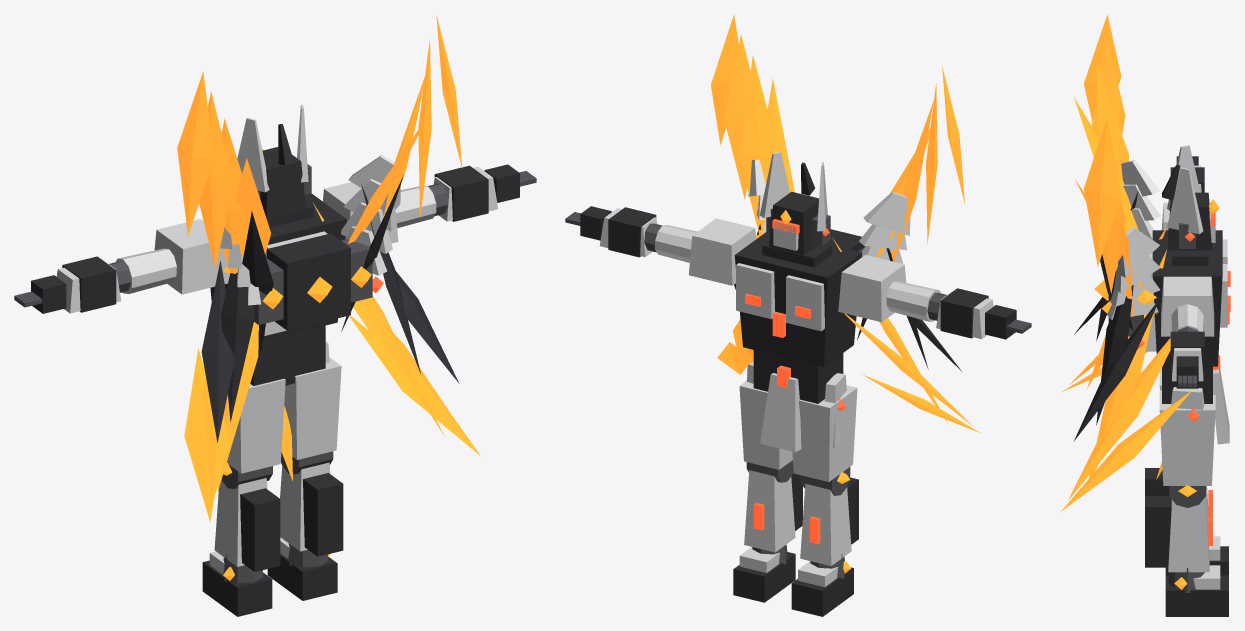
Rendered from ignis_30k.glb.
3 renders of one model, left to right at view 1: azimuth 30°, elevation 25°; view 2: azimuth 150°, elevation 25°; view 3: azimuth 270°, elevation 25°, orthographic. The views are drawn at different scales.
Visible parts, largest first — view 1: IGNIS_pack_core, IGNIS_thigh_R, IGNIS_thigh_L, IGNIS_shoulder_L, IGNIS_wing_big_L_3, IGNIS_pelvis, IGNIS_calf_R, IGNIS_calf_L, IGNIS_wing_dark_L_2, IGNIS_wing_big_L_2, IGNIS_wing_dark_L_1, IGNIS_foot_L (+35 smaller); view 2: IGNIS_torso_core, IGNIS_thigh_L, IGNIS_shin_L, IGNIS_shin_R, IGNIS_shoulder_L, IGNIS_shoulder_R, IGNIS_wing_big_R_1, IGNIS_skirt_front, IGNIS_pelvis, IGNIS_thigh_R, IGNIS_wing_big_R_2, IGNIS_foot_R (+27 smaller); view 3: IGNIS_thigh_R, IGNIS_torso_core, IGNIS_wing_big_R_3, IGNIS_shin_R, IGNIS_wing_low_R_1, IGNIS_shoulder_R, IGNIS_wing_low_R_2, IGNIS_foot_R, IGNIS_calf_R, IGNIS_wing_dark_R_2, IGNIS_wing_low_R_0, IGNIS_vfin_R (+35 smaller).
Boxes of the visible parts, x1=… form: IGNIS_pack_core: x1=267, y1=233, x2=350, y2=330; IGNIS_thigh_R: x1=284, y1=357, x2=341, y2=459; IGNIS_thigh_L: x1=227, y1=378, x2=285, y2=473; IGNIS_shoulder_L: x1=154, y1=219, x2=229, y2=294; IGNIS_wing_big_L_3: x1=177, y1=71, x2=213, y2=235; IGNIS_pelvis: x1=250, y1=325, x2=325, y2=385; IGNIS_calf_R: x1=303, y1=473, x2=343, y2=556; IGNIS_calf_L: x1=240, y1=488, x2=280, y2=571; IGNIS_wing_dark_L_2: x1=201, y1=260, x2=235, y2=442; IGNIS_wing_big_L_2: x1=199, y1=91, x2=233, y2=268; IGNIS_wing_dark_L_1: x1=220, y1=272, x2=254, y2=422; IGNIS_foot_L: x1=202, y1=560, x2=272, y2=616; IGNIS_torso_core: x1=734, y1=232, x2=862, y2=366; IGNIS_thigh_L: x1=792, y1=385, x2=857, y2=481; IGNIS_shin_L: x1=800, y1=484, x2=851, y2=565; IGNIS_shin_R: x1=744, y1=470, x2=795, y2=552; IGNIS_shoulder_L: x1=838, y1=255, x2=906, y2=322; IGNIS_shoulder_R: x1=689, y1=218, x2=756, y2=285; IGNIS_wing_big_R_1: x1=739, y1=55, x2=774, y2=233; IGNIS_skirt_front: x1=760, y1=373, x2=801, y2=452; IGNIS_pelvis: x1=753, y1=350, x2=843, y2=403; IGNIS_thigh_R: x1=739, y1=381, x2=792, y2=469; IGNIS_wing_big_R_2: x1=724, y1=34, x2=750, y2=199; IGNIS_foot_R: x1=733, y1=552, x2=795, y2=602; IGNIS_thigh_R: x1=1159, y1=390, x2=1215, y2=485; IGNIS_torso_core: x1=1152, y1=230, x2=1222, y2=366; IGNIS_wing_big_R_3: x1=1084, y1=117, x2=1121, y2=266; IGNIS_shin_R: x1=1168, y1=496, x2=1209, y2=572; IGNIS_wing_low_R_1: x1=1068, y1=338, x2=1170, y2=500; IGNIS_shoulder_R: x1=1161, y1=276, x2=1214, y2=336; IGNIS_wing_low_R_2: x1=1061, y1=390, x2=1192, y2=511; IGNIS_foot_R: x1=1165, y1=575, x2=1228, y2=616; IGNIS_calf_R: x1=1145, y1=496, x2=1171, y2=567; IGNIS_wing_dark_R_2: x1=1074, y1=298, x2=1160, y2=440; IGNIS_wing_low_R_0: x1=1089, y1=250, x2=1166, y2=478; IGNIS_vfin_R: x1=1167, y1=167, x2=1203, y2=234.
Size of the model in its own units: 4.4 by 4.81 by 1.4.
